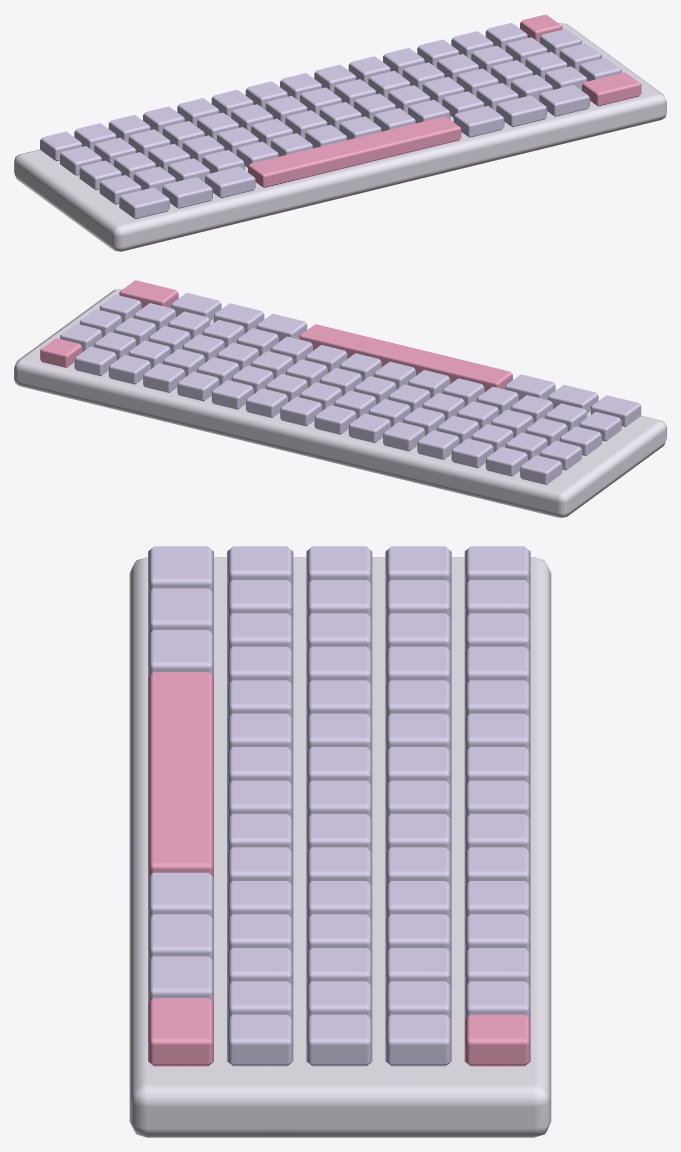
File: keyboard.fbx
3 renders of one model, top to bottom at view 1: azimuth 30°, elevation 25°; view 2: azimuth 150°, elevation 25°; view 3: azimuth 270°, elevation 25°, orthographic. The views are drawn at different scales.
Visible parts, largest first — view 1: keyboard; view 2: keyboard; view 3: keyboard.
Part boxes in pixels (x1=…): keyboard: x1=14, y1=14, x2=666, y2=251; keyboard: x1=14, y1=280, x2=666, y2=517; keyboard: x1=129, y1=546, x2=551, y2=1137.
Bounding box in the file's own units: 0.44 × 0.031 × 0.145.
